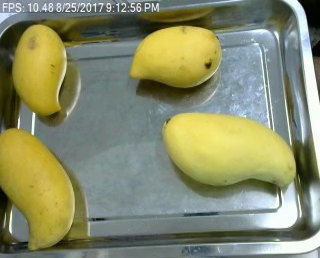Mango: (160, 110, 300, 188), (0, 126, 75, 250), (130, 24, 224, 89), (8, 20, 70, 115)
